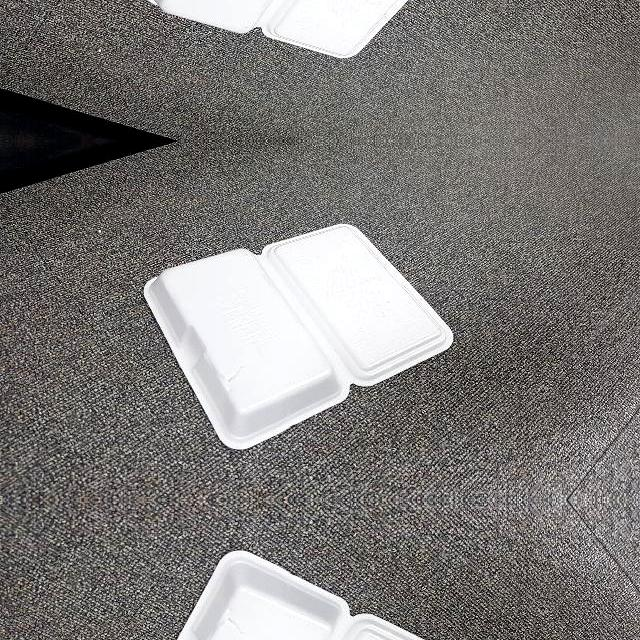Styrofoam: (144, 222, 452, 450), (144, 223, 454, 449), (143, 547, 452, 640), (176, 549, 428, 640), (143, 0, 452, 58)
